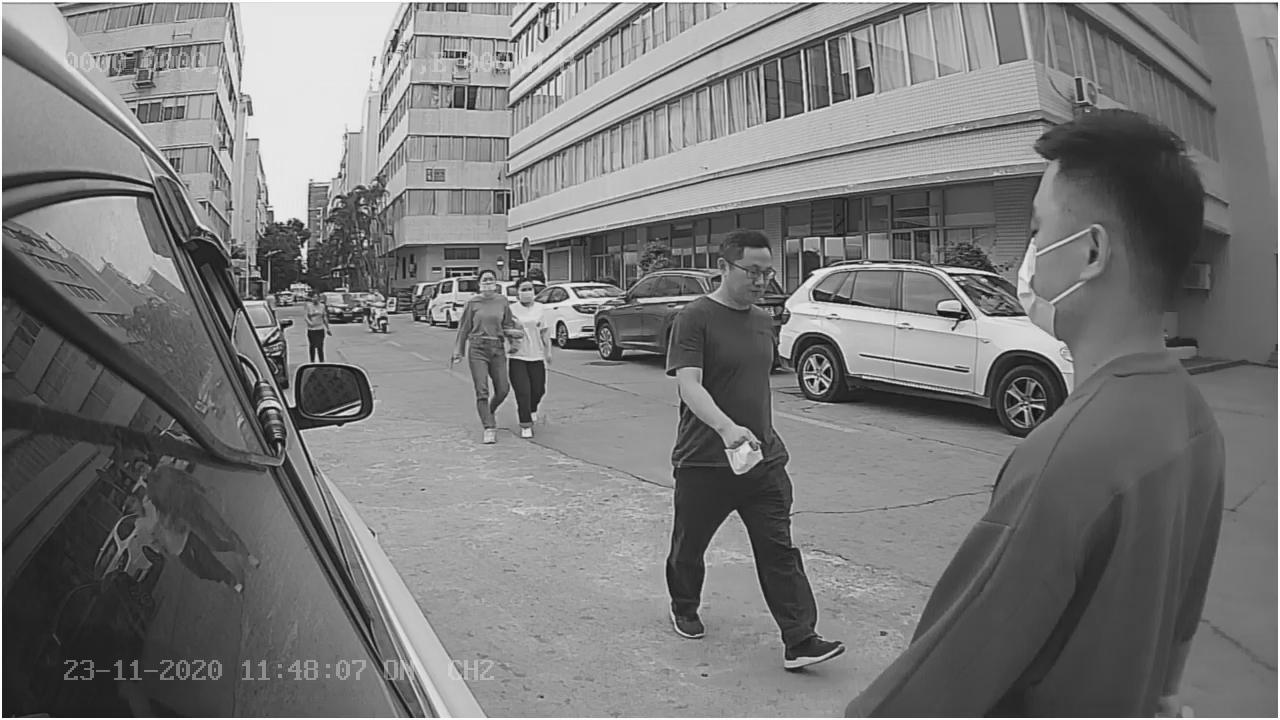person: (657, 225, 838, 670), (450, 254, 509, 448)
